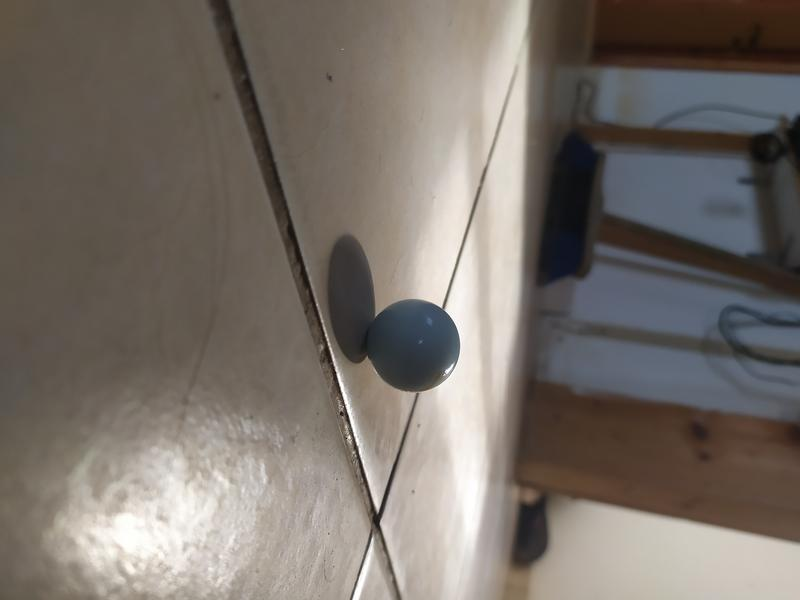Warning: (363, 293, 463, 396)
